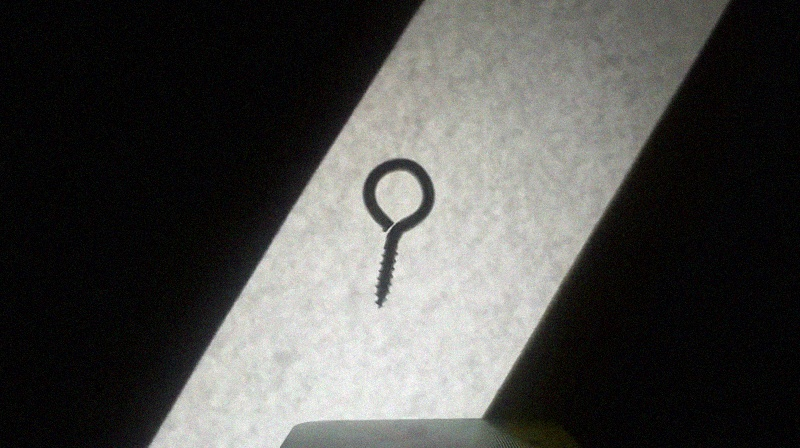O001: (357, 156, 439, 311)
